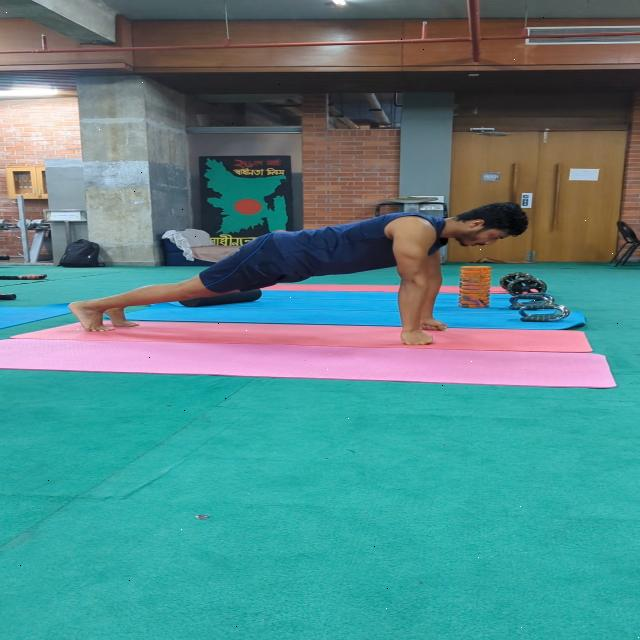Normal_PushUps: (47, 200, 566, 358)
